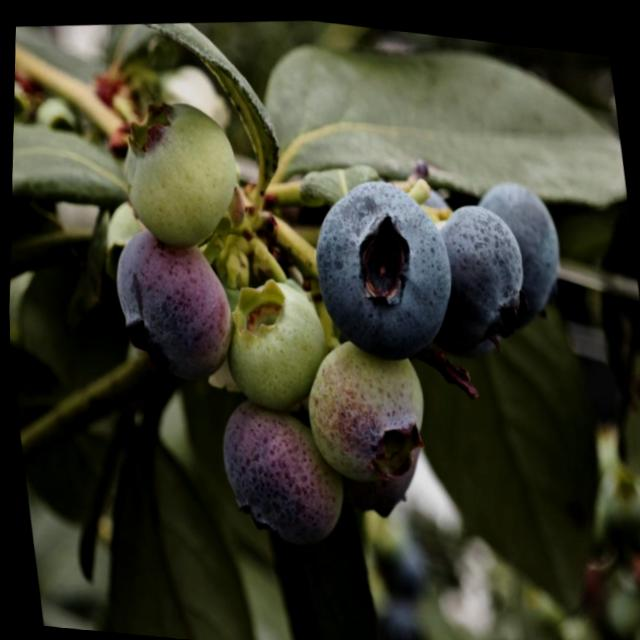RipeBlueBerry: (294, 156, 473, 372), (418, 184, 541, 359), (470, 165, 577, 325)
Semi-RipeBlueBerry: (97, 215, 248, 397), (205, 382, 354, 560)
UnripeBlueBerry: (289, 321, 444, 500), (106, 83, 256, 265), (210, 258, 336, 418)
